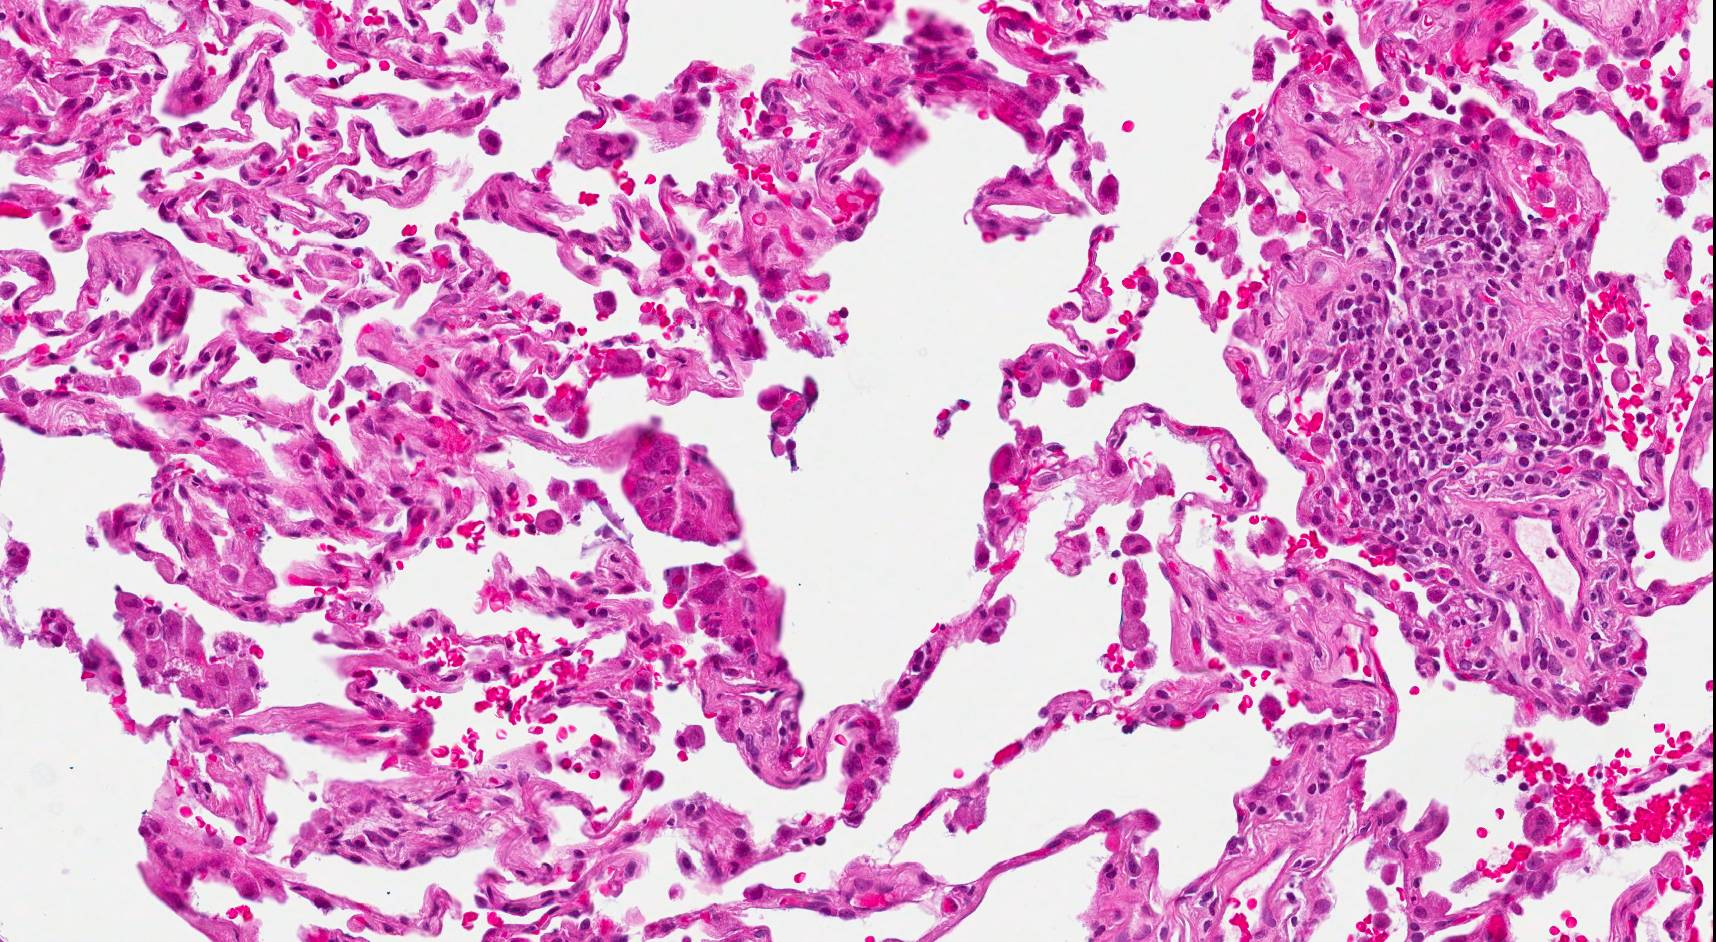stas: (616, 427, 752, 551)
